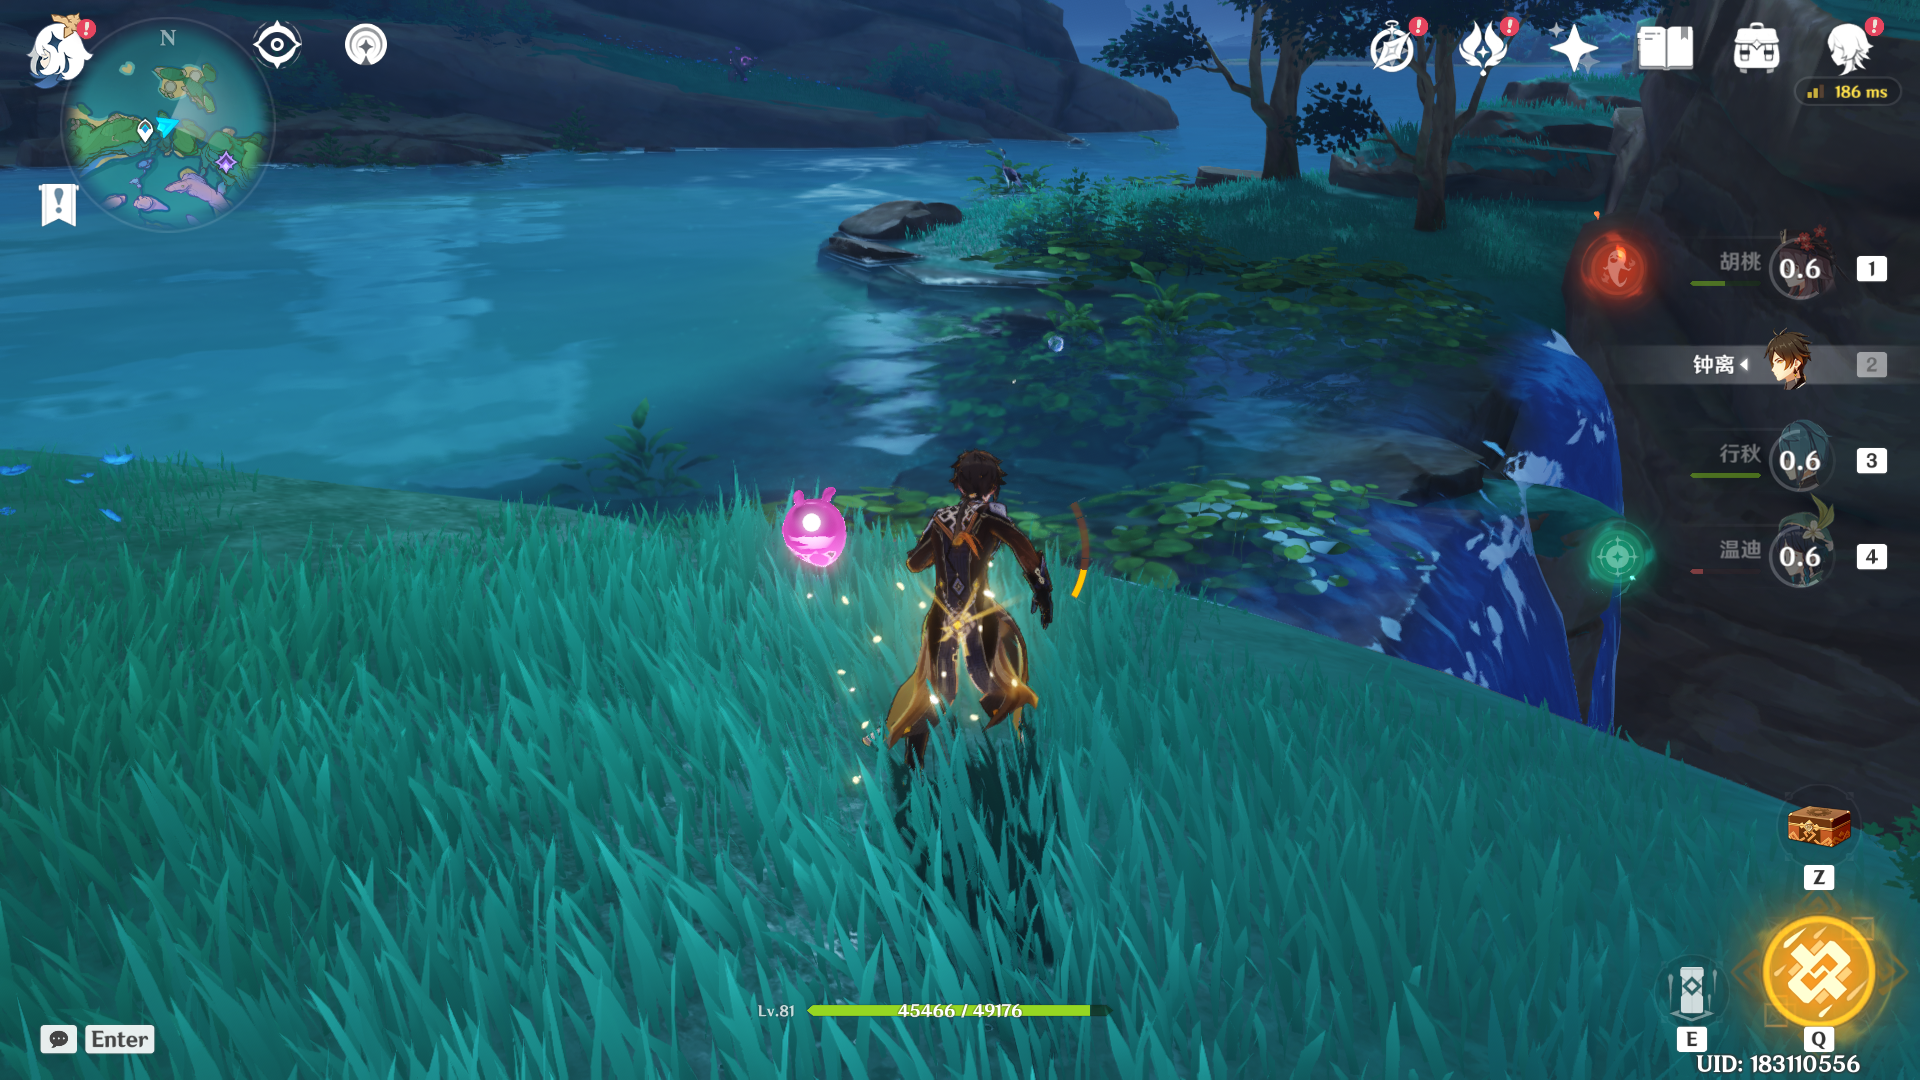character: (836, 421, 1087, 808)
